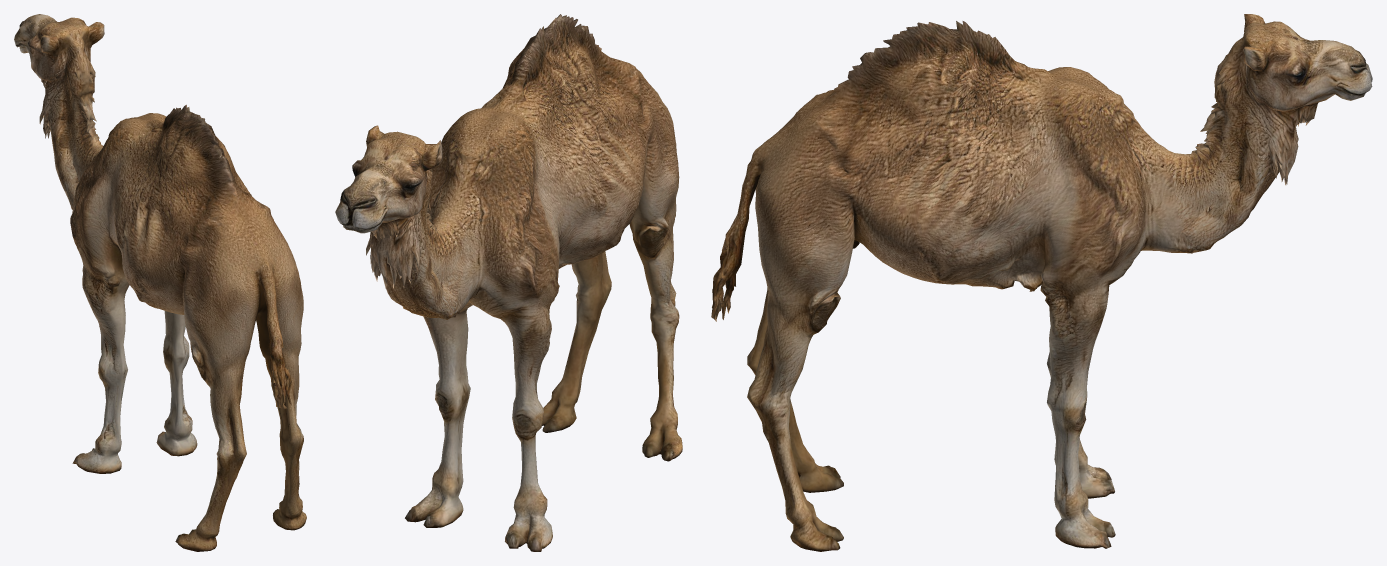
File: camel.glb
The picture shows the model from 3 angles, left to right: view 1: azimuth 30°, elevation 25°; view 2: azimuth 150°, elevation 25°; view 3: azimuth 270°, elevation 25°; orthographic projection. The views are drawn at different scales.
Parts seen in each view (by area): view 1: tripo_node_dd571b5d-0513-41e4-8771-14775307e94c; view 2: tripo_node_dd571b5d-0513-41e4-8771-14775307e94c; view 3: tripo_node_dd571b5d-0513-41e4-8771-14775307e94c.
Boxes of the visible parts, <box> form: tripo_node_dd571b5d-0513-41e4-8771-14775307e94c: <box>14,14,306,551</box>; tripo_node_dd571b5d-0513-41e4-8771-14775307e94c: <box>335,14,682,551</box>; tripo_node_dd571b5d-0513-41e4-8771-14775307e94c: <box>711,14,1372,551</box>.
Bounding box in the file's own units: 0.2964 × 0.8245 × 1.
Materials: 1 (1 with a texture image).
